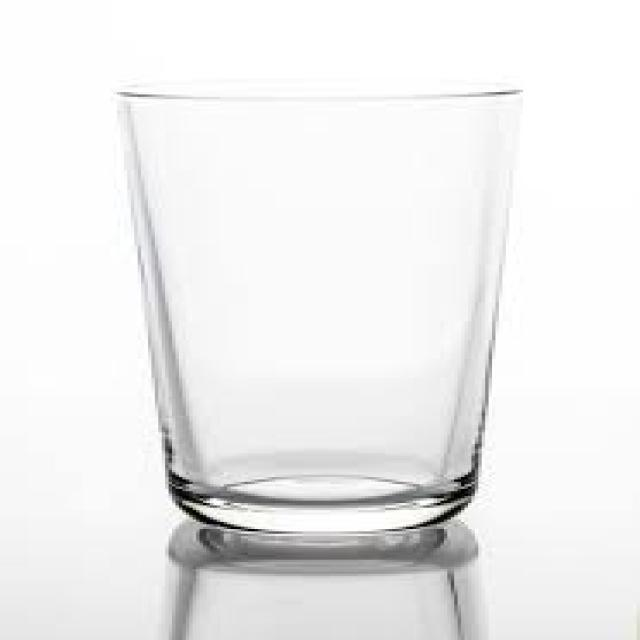Glass: (86, 52, 532, 558)
